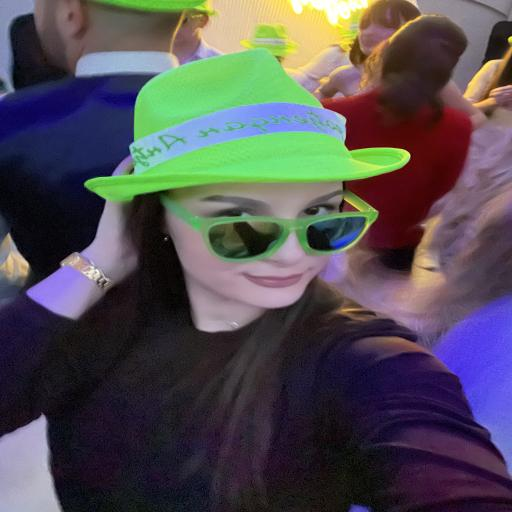marija: (158, 181, 358, 310)
